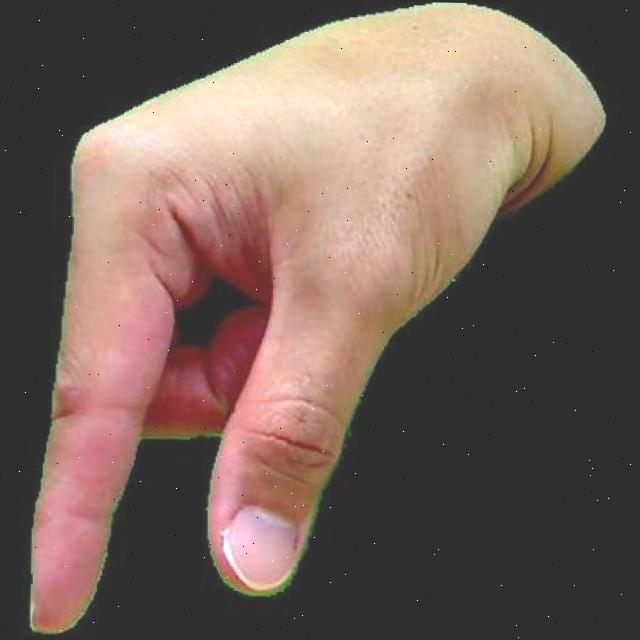q: (16, 0, 618, 640)
